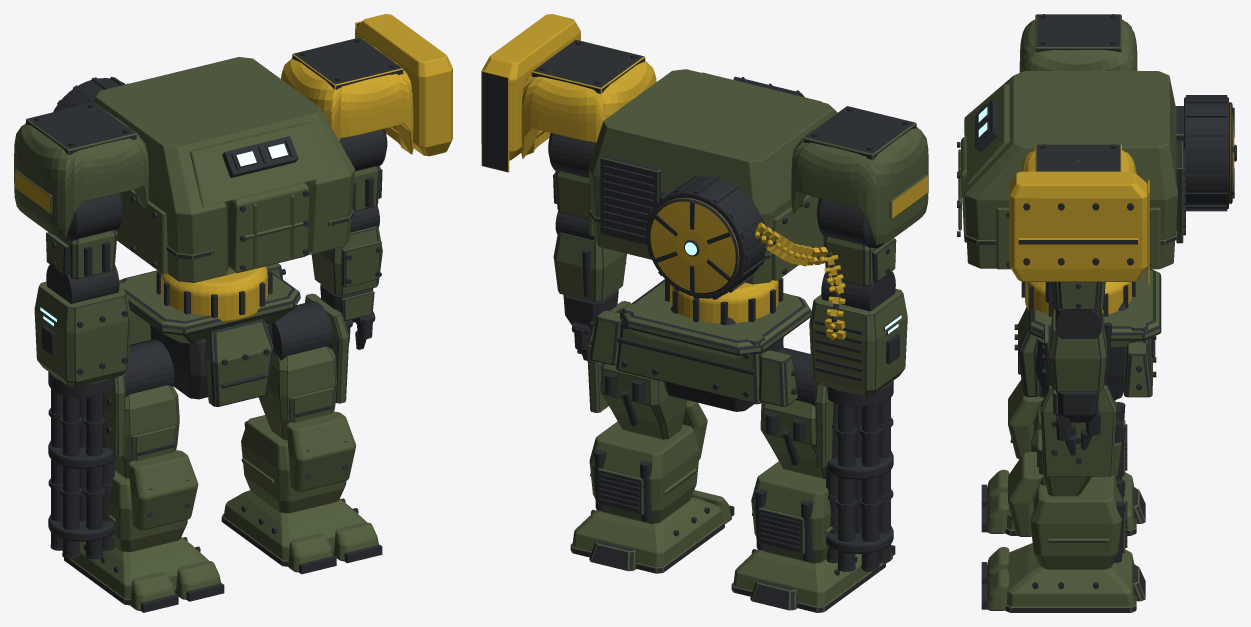
Rendered from Titan_H2_r5c.fbx.
The picture shows the model from 3 angles, left to right: view 1: azimuth 30°, elevation 25°; view 2: azimuth 150°, elevation 25°; view 3: azimuth 270°, elevation 25°; orthographic projection.
Visible parts, largest first — view 1: H2_Torso_Upper, H2_Shoulder_L, H2_Shoulder_R, H2_Pelvis, H2_Cannon, H2_Barrels, H2_Shin_L, H2_Thigh_L, H2_Thigh_R, H2_Shin_R, H2_Hatch, H2_Foot_L (+10 smaller); view 2: H2_Torso_Upper, H2_Pelvis, H2_Shoulder_L, H2_Shoulder_R, H2_Drum, H2_Cannon, H2_Barrels, H2_Shin_L, H2_Foot_L, H2_Shin_R, H2_Foot_R, H2_Thigh_R (+8 smaller); view 3: H2_Torso_Upper, H2_Shoulder_L, H2_Shin_L, H2_Pelvis, H2_Foot_L, H2_Shoulder_R, H2_Drum, H2_Thigh_L, H2_Forearm_L, H2_Shin_R, H2_UpperArm_L, H2_Waist (+8 smaller).
Part boxes in pixels (x1,y1,x2,y2): H2_Torso_Upper: (94, 57, 354, 282); H2_Shoulder_L: (281, 14, 452, 156); H2_Shoulder_R: (14, 102, 148, 238); H2_Pelvis: (119, 263, 300, 406); H2_Cannon: (34, 265, 131, 397); H2_Barrels: (48, 389, 115, 559); H2_Shin_L: (241, 411, 356, 513); H2_Thigh_L: (258, 293, 349, 439); H2_Thigh_R: (106, 339, 179, 478); H2_Shin_R: (107, 450, 198, 551); H2_Hatch: (227, 182, 309, 272); H2_Foot_L: (221, 490, 366, 566); H2_Torso_Upper: (588, 69, 837, 284); H2_Pelvis: (589, 279, 811, 411); H2_Shoulder_L: (481, 14, 656, 172); H2_Shoulder_R: (791, 106, 928, 244); H2_Drum: (644, 175, 766, 299); H2_Cannon: (809, 271, 907, 406); H2_Barrels: (825, 398, 893, 571); H2_Shin_L: (589, 400, 707, 523); H2_Foot_L: (570, 497, 724, 573); H2_Shin_R: (751, 461, 833, 563); H2_Foot_R: (731, 549, 885, 612); H2_Thigh_R: (760, 348, 833, 478); H2_Torso_Upper: (964, 71, 1185, 269); H2_Shoulder_L: (1009, 144, 1149, 286); H2_Shin_L: (1008, 452, 1127, 569); H2_Pelvis: (1014, 269, 1161, 400); H2_Foot_L: (1005, 543, 1145, 612); H2_Shoulder_R: (1019, 14, 1137, 72); H2_Drum: (1184, 95, 1236, 211); H2_Thigh_L: (1037, 376, 1122, 496); H2_Forearm_L: (1042, 309, 1112, 391); H2_Shin_R: (1008, 380, 1127, 479); H2_UpperArm_L: (1045, 282, 1105, 311); H2_Waist: (1021, 281, 1135, 316).
Bounding box in the file's own units: 5.23 × 5.96 × 3.24.
